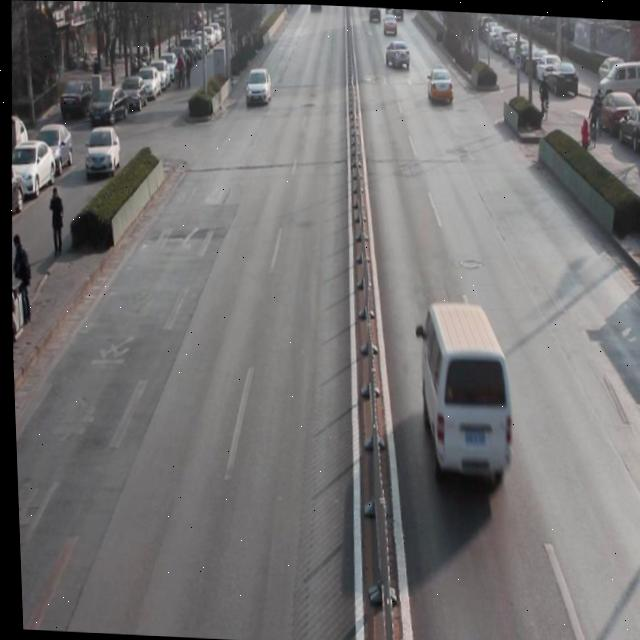car: (244, 63, 273, 106), (425, 67, 455, 105), (384, 40, 412, 74), (382, 9, 399, 37)
truck: (407, 297, 520, 497)
